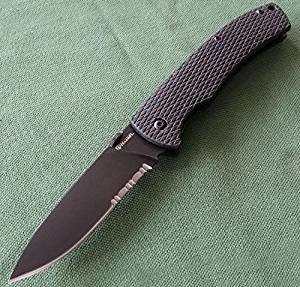knife: (4, 119, 170, 285)
